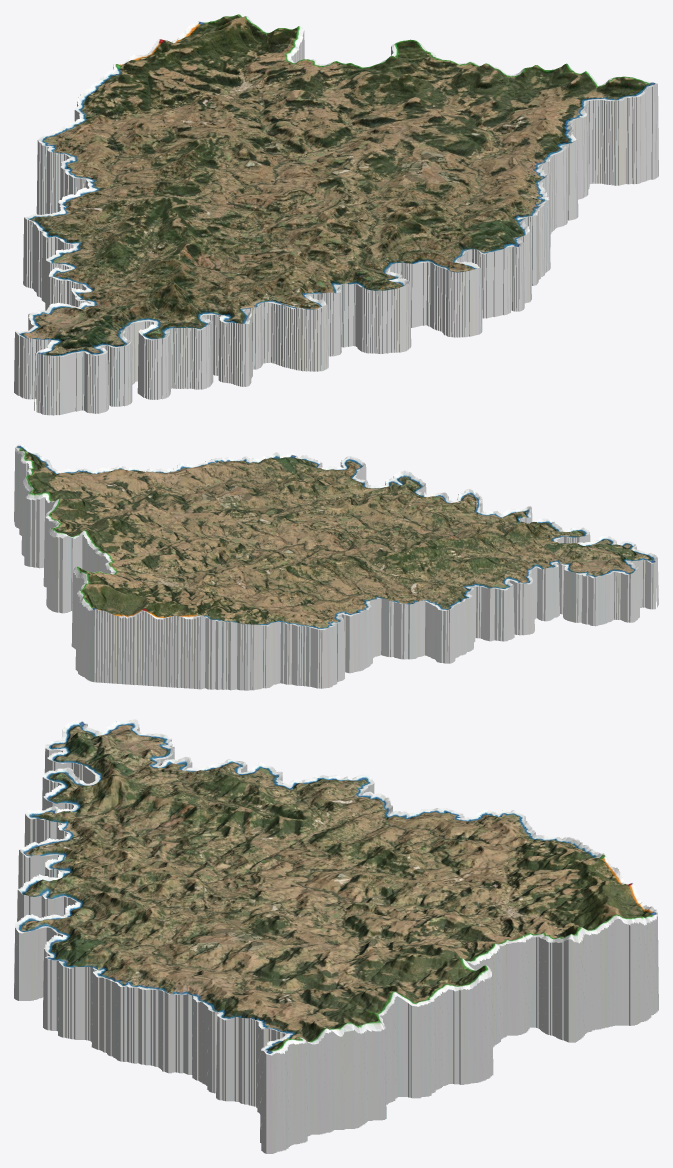
3 renders of one model, top to bottom at view 1: azimuth 30°, elevation 25°; view 2: azimuth 150°, elevation 25°; view 3: azimuth 270°, elevation 25°, orthographic. The views are drawn at different scales.
Size of the model in its own units: 1 by 0.1368 by 0.7343.
Materials: 1 (1 with a texture image).
